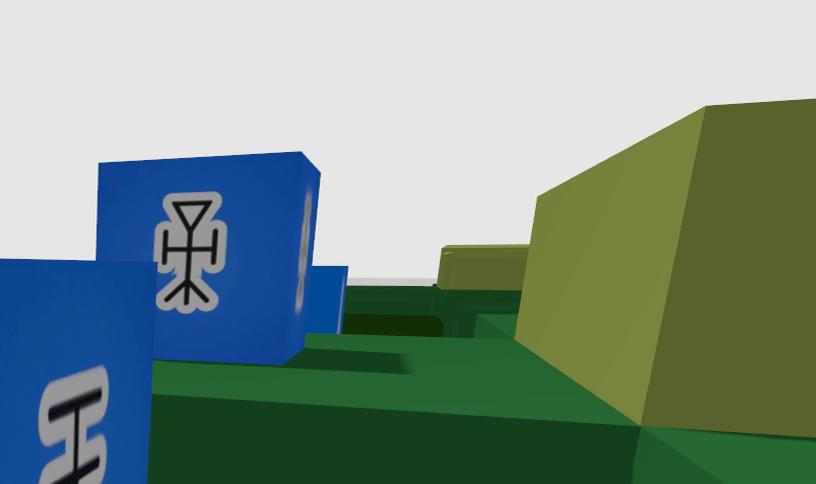KFS_REAL: (97, 153, 321, 364), (0, 260, 153, 484), (153, 194, 226, 313), (39, 368, 108, 484), (303, 265, 348, 332)
